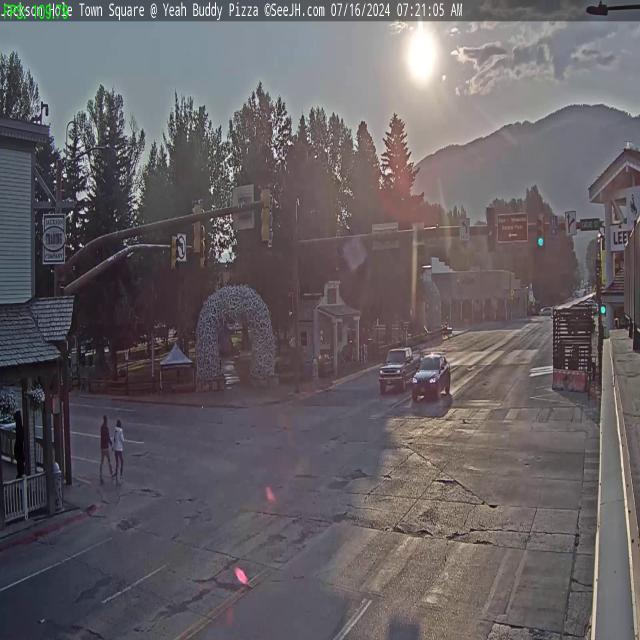person: (112, 418, 126, 482), (99, 415, 111, 483)
pickup: (378, 346, 417, 397)
suv: (412, 350, 452, 403)
traffic light: (190, 198, 204, 256), (260, 183, 273, 244), (487, 206, 496, 253), (536, 214, 545, 248), (172, 233, 178, 273)
